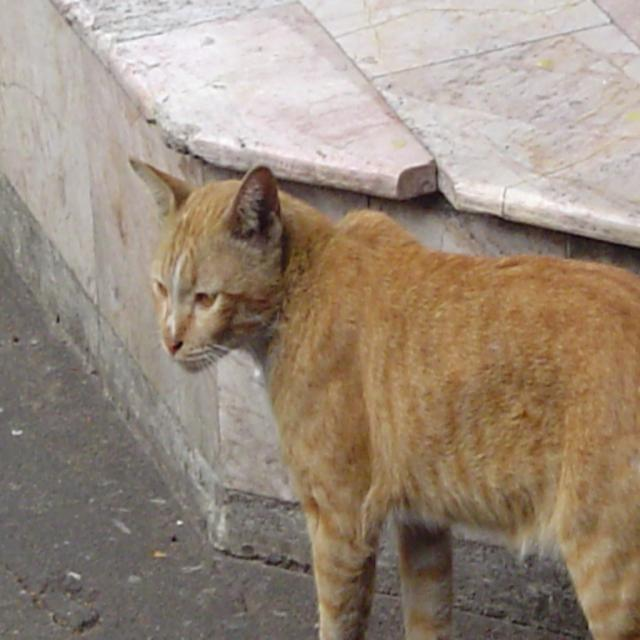Cat: (128, 158, 638, 638)
